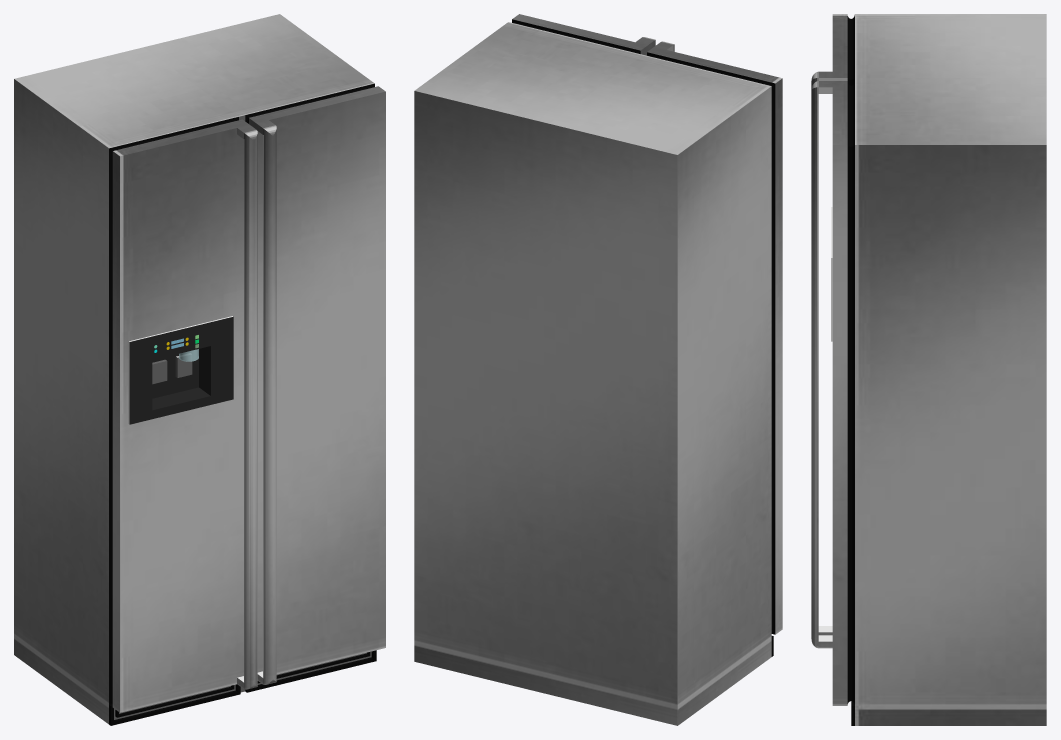
Rendered from american_fridge.dae.
3 renders of one model, left to right at view 1: azimuth 30°, elevation 25°; view 2: azimuth 150°, elevation 25°; view 3: azimuth 270°, elevation 25°, orthographic.
Visible parts, largest first — view 1: skp7450 (×10); view 2: skp7450 (×4); view 3: skp7450 (×8).
Part boxes in pixels (bbox=[...]): skp7450 (×10): bbox=[14, 14, 385, 725]; skp7450 (×4): bbox=[414, 14, 782, 725]; skp7450 (×8): bbox=[811, 14, 1046, 725].
Bounding box in the file's own units: 42 × 31.9 × 86.99.
15 materials, 2 textured.
